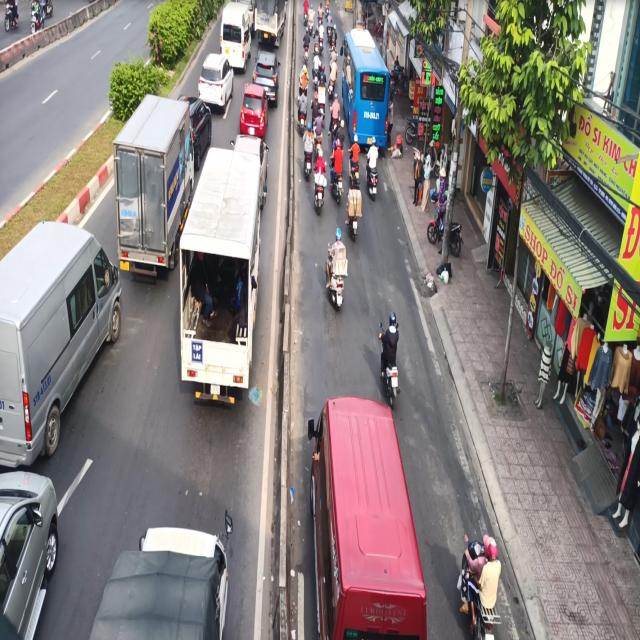bus: (341, 29, 392, 152)
car: (0, 210, 128, 462), (303, 397, 427, 640), (198, 40, 230, 104), (241, 80, 268, 136)
motor: (459, 526, 503, 639), (323, 218, 351, 314), (380, 312, 406, 411)
truck: (181, 144, 260, 423), (110, 89, 189, 270)
